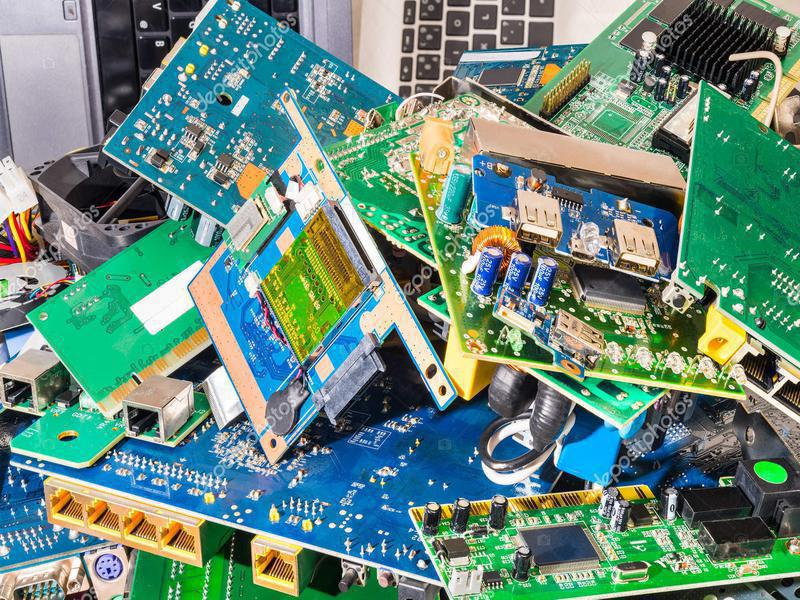circuit_board: (183, 92, 462, 461), (395, 115, 749, 404), (95, 1, 407, 230), (396, 457, 800, 600), (505, 1, 800, 155), (18, 215, 233, 421)
